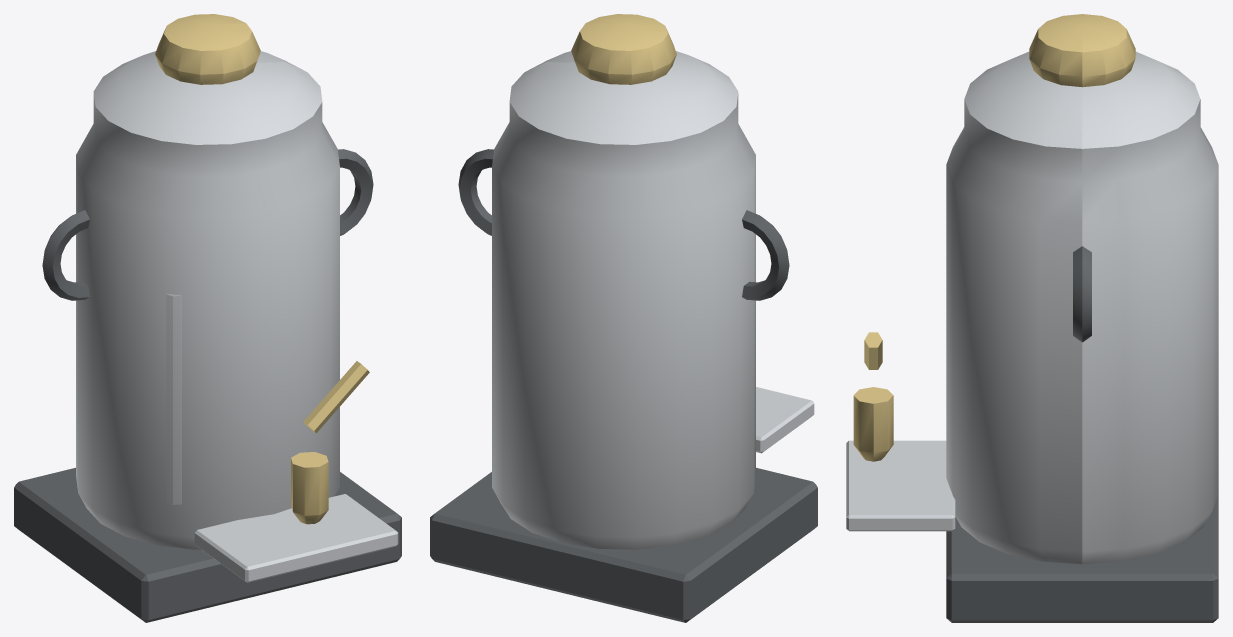
Rendered from submarine-interior-and-control-room-coffee-urn-91c723cc__36503.glb.
3 views of the same model, side by side, from view 1: azimuth 30°, elevation 25°; view 2: azimuth 150°, elevation 25°; view 3: azimuth 270°, elevation 25° (orthographic). The views are drawn at different scales.
Visible parts, largest first — view 1: coffee-urn; view 2: coffee-urn; view 3: coffee-urn.
Boxes of the visible parts, left/top/right/bottom form: coffee-urn: left=14, top=14, right=401, bottom=622; coffee-urn: left=430, top=14, right=817, bottom=622; coffee-urn: left=846, top=14, right=1218, bottom=622.
Size of the model in its own units: 0.432 by 0.65 by 0.41.
